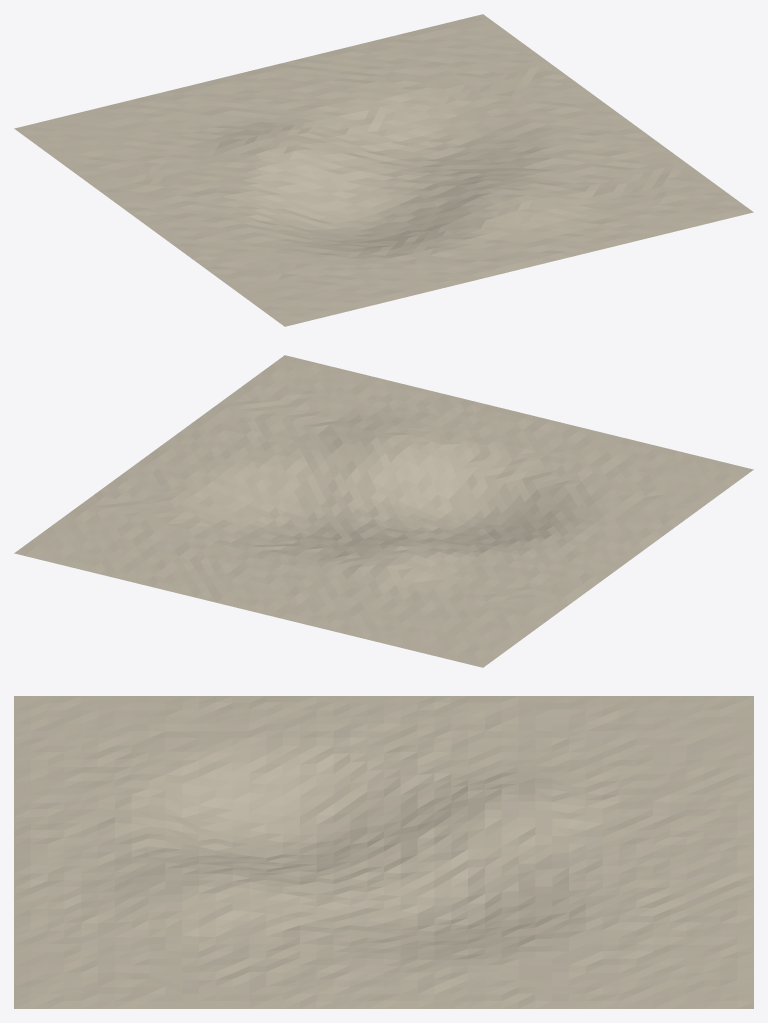
Rendered from Ground_m_09.fbx.
The picture shows the model from 3 angles, top to bottom: view 1: azimuth 30°, elevation 25°; view 2: azimuth 150°, elevation 25°; view 3: azimuth 270°, elevation 25°; orthographic projection. The views are drawn at different scales.
Parts seen in each view (by area): view 1: Ground_m_09; view 2: Ground_m_09; view 3: Ground_m_09.
Part boxes in pixels (box(x1,y1,x2,y2)): Ground_m_09: box(14, 14, 753, 326); Ground_m_09: box(14, 355, 753, 667); Ground_m_09: box(14, 696, 753, 1008).
Bounding box in the file's own units: 10000 × 524 × 10000.
